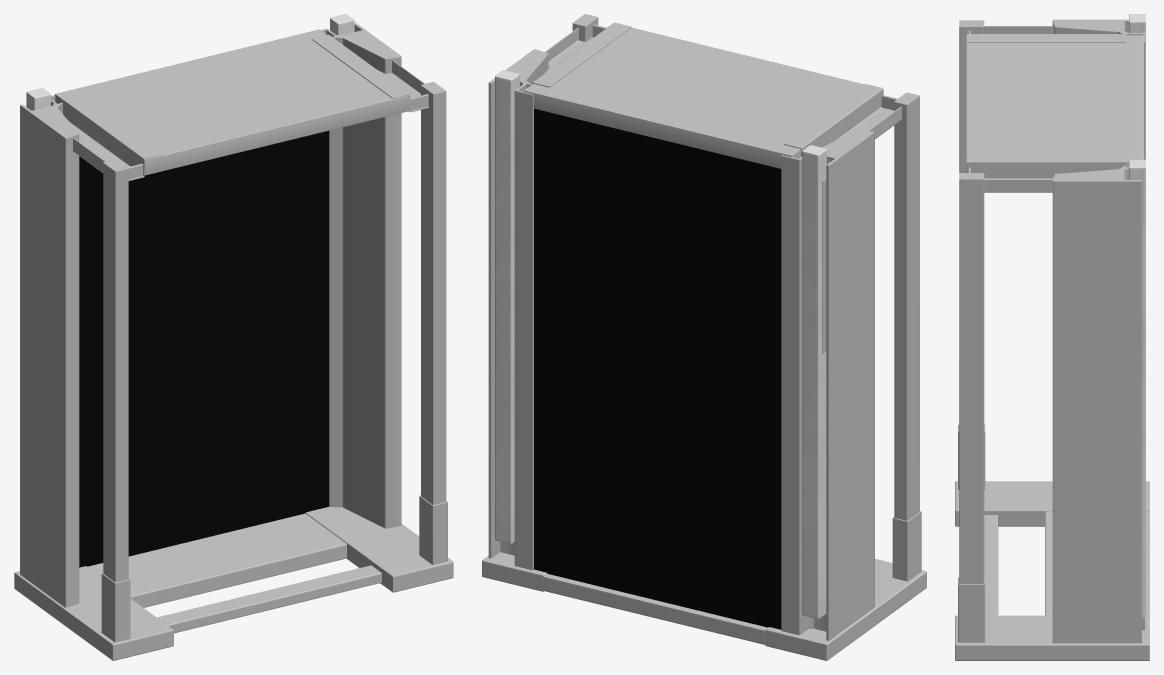
The model's file is SM_Kitchen_02_Drawer_02.obj.
3 views of the same model, side by side, from view 1: azimuth 30°, elevation 25°; view 2: azimuth 150°, elevation 25°; view 3: azimuth 270°, elevation 25° (orthographic). The views are drawn at different scales.
Visible parts, largest first — view 1: SM_Kitchen_02_Drawer_4; view 2: SM_Kitchen_02_Drawer_4; view 3: SM_Kitchen_02_Drawer_4.
Boxes of the visible parts, box(x1,y1,x2,y2) form: SM_Kitchen_02_Drawer_4: box(14, 14, 453, 660); SM_Kitchen_02_Drawer_4: box(482, 14, 926, 660); SM_Kitchen_02_Drawer_4: box(955, 14, 1149, 660).
Size of the model in its own units: 0.362 by 0.5029 by 0.182.
Materials: 3 (1 with a texture image).
